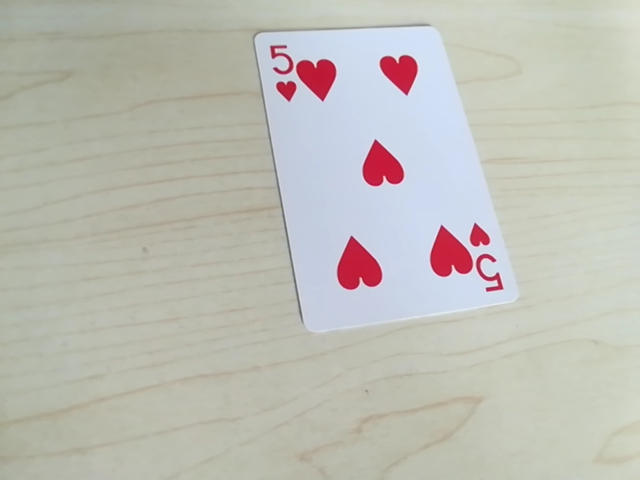hx 5: (264, 46, 314, 109), (469, 224, 504, 299)
